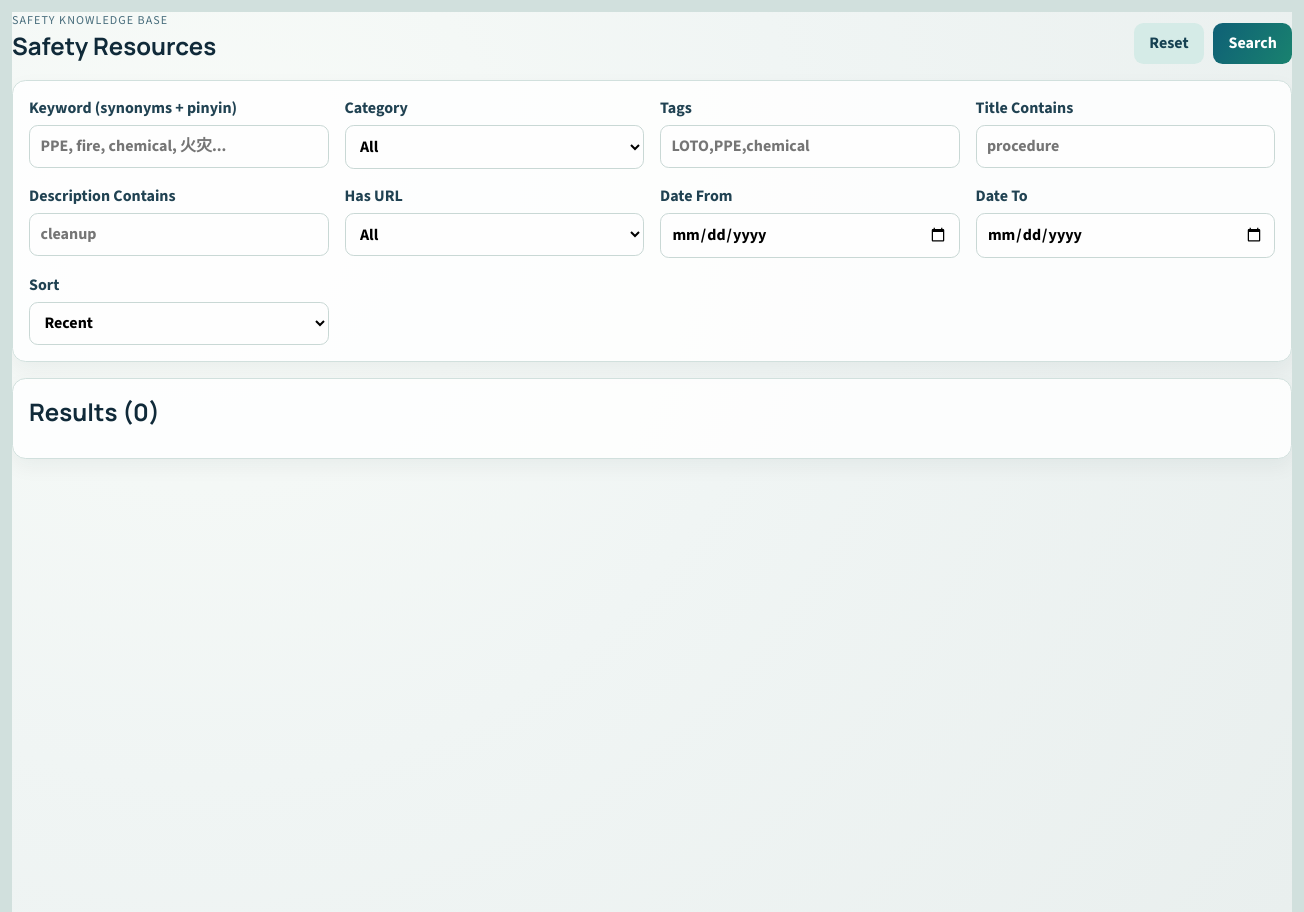
Test: Resources.vue › shows empty state when no results
The width and height of the screenshot is (1304, 912).
What coordinates should you click on to do the following:
click the button "Search"
I would click on:
 (1253, 44)
Its box is [1213, 23, 1292, 64].
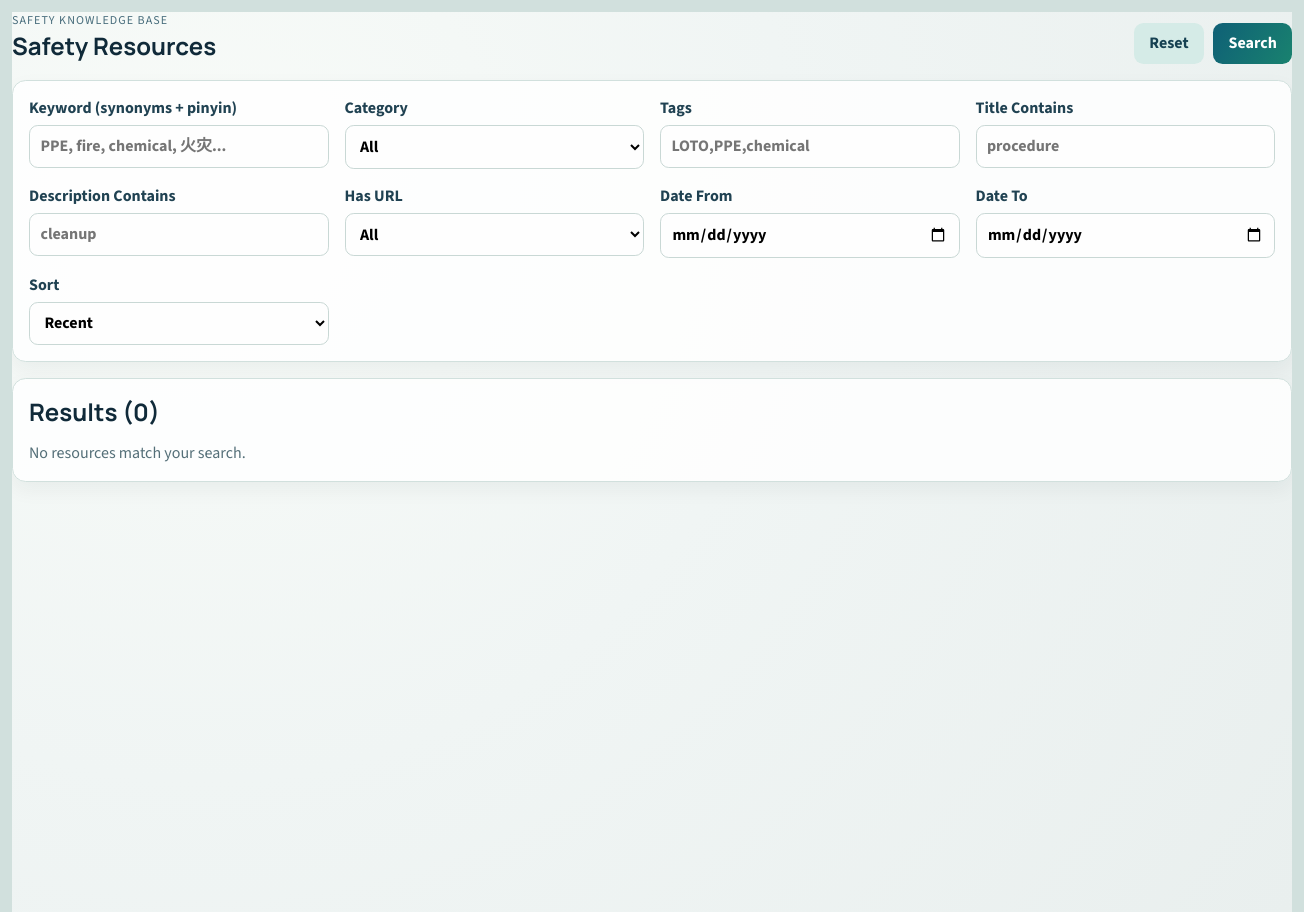
expect the text "No resources match your search" is shown: met, box [29, 442, 246, 464]
